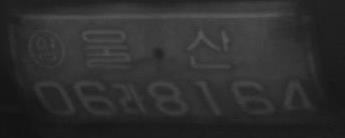0: (33, 80, 75, 115)
1: (190, 79, 227, 117)
4: (282, 76, 318, 117)
6: (230, 79, 276, 118), (75, 80, 117, 116)
8: (148, 79, 188, 117)
라: (117, 82, 148, 115)
영: (27, 27, 66, 70)
울산_D: (81, 24, 233, 72)
